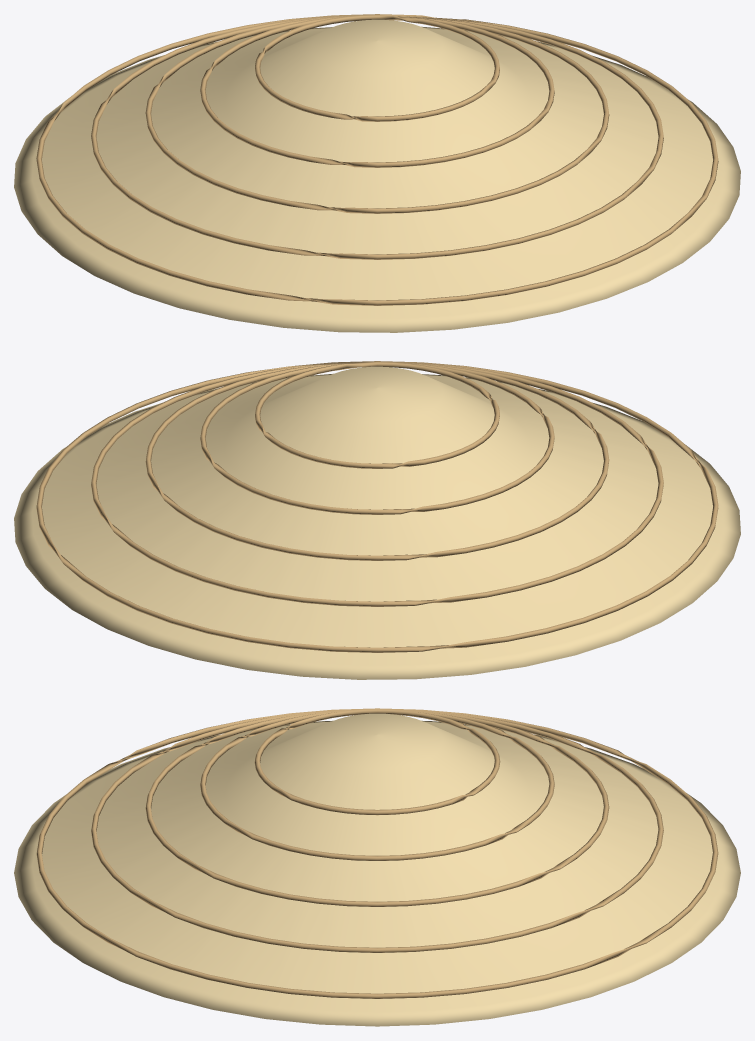
File: acc-straw-hat.glb
The picture shows the model from 3 angles, top to bottom: view 1: azimuth 30°, elevation 25°; view 2: azimuth 150°, elevation 25°; view 3: azimuth 270°, elevation 25°; orthographic projection.
Parts seen in each view (by area): view 1: hat, weave5, weave4, weave3, weave2, weave1; view 2: hat, weave5, weave4, weave3, weave2, weave1; view 3: hat, weave5, weave4, weave3, weave2, weave1.
Part boxes in pixels (x1,y1,x2,y2): hat: [14, 19, 740, 332]; weave5: [36, 14, 718, 305]; weave4: [91, 14, 663, 259]; weave3: [145, 14, 609, 213]; weave2: [200, 14, 554, 167]; weave1: [255, 14, 499, 121]; hat: [14, 366, 740, 679]; weave5: [36, 361, 718, 652]; weave4: [91, 361, 663, 606]; weave3: [145, 361, 609, 560]; weave2: [200, 361, 554, 514]; weave1: [255, 361, 499, 468]; hat: [14, 713, 740, 1026]; weave5: [36, 708, 718, 998]; weave4: [91, 708, 663, 952]; weave3: [145, 708, 609, 906]; weave2: [200, 709, 554, 860]; weave1: [254, 709, 500, 815].
Size of the model in its own units: 2 by 0.44 by 2.
